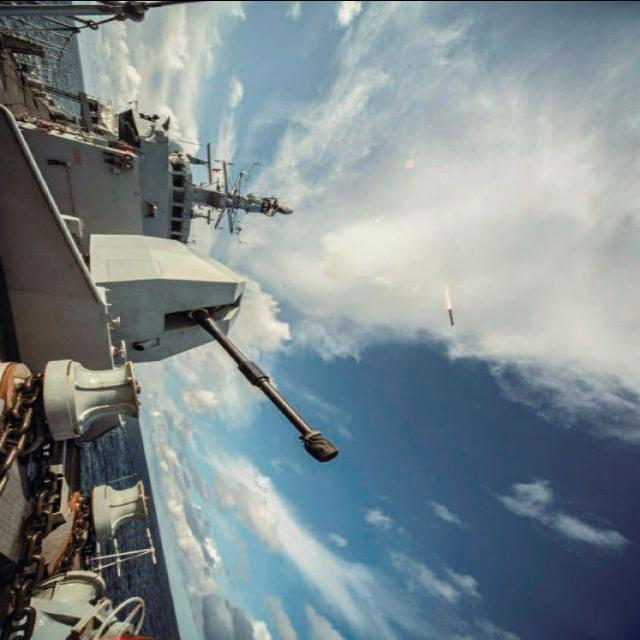missile: (442, 303, 462, 331)
